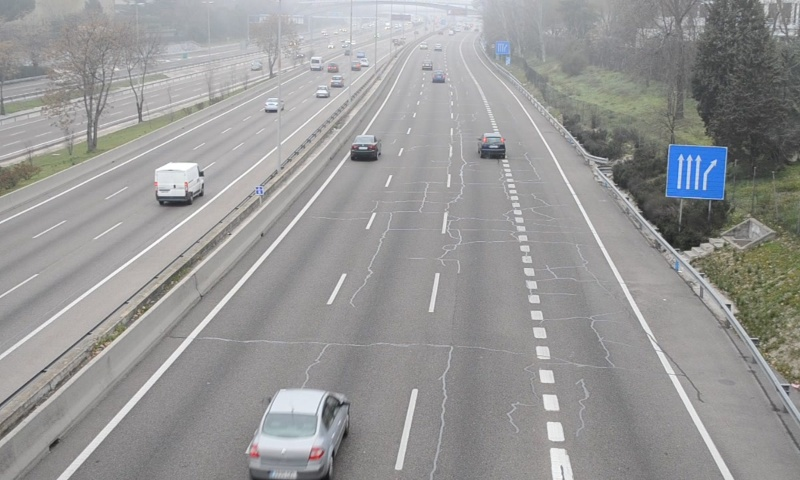car: (246, 388, 350, 480), (350, 134, 379, 158), (479, 133, 506, 156)
